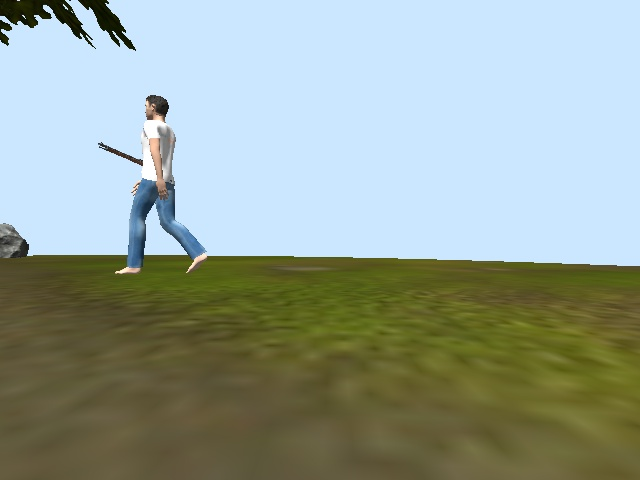animal: (115, 92, 207, 279)
rifle: (97, 137, 142, 167)
